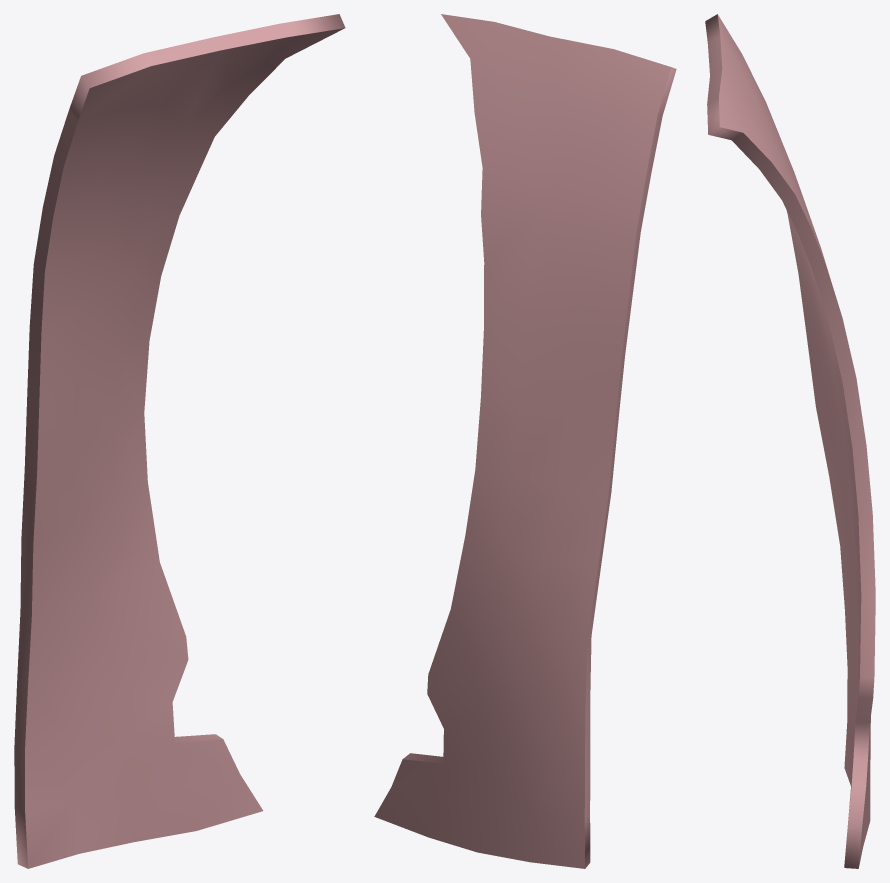
The picture shows the model from 3 angles, left to right: view 1: azimuth 30°, elevation 25°; view 2: azimuth 150°, elevation 25°; view 3: azimuth 270°, elevation 25°; orthographic projection. The views are drawn at different scales.
Visible parts, largest first — view 1: ZA_4f4b9e5c0c7efa62; view 2: ZA_4f4b9e5c0c7efa62; view 3: ZA_4f4b9e5c0c7efa62.
Part boxes in pixels (box(x1,y1,x2,y2)): ZA_4f4b9e5c0c7efa62: box(14, 14, 345, 868); ZA_4f4b9e5c0c7efa62: box(374, 14, 676, 868); ZA_4f4b9e5c0c7efa62: box(705, 14, 875, 868).
Size of the model in its own units: 0.0541 by 0.1717 by 0.0351.
